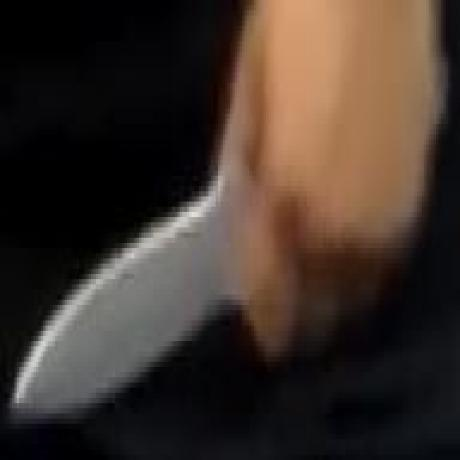1: (213, 0, 451, 370)
weapon: (4, 157, 246, 442)
